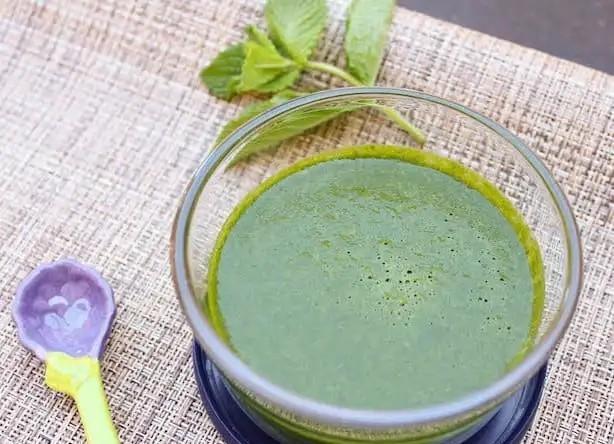GreenChutney: (208, 153, 538, 411)
